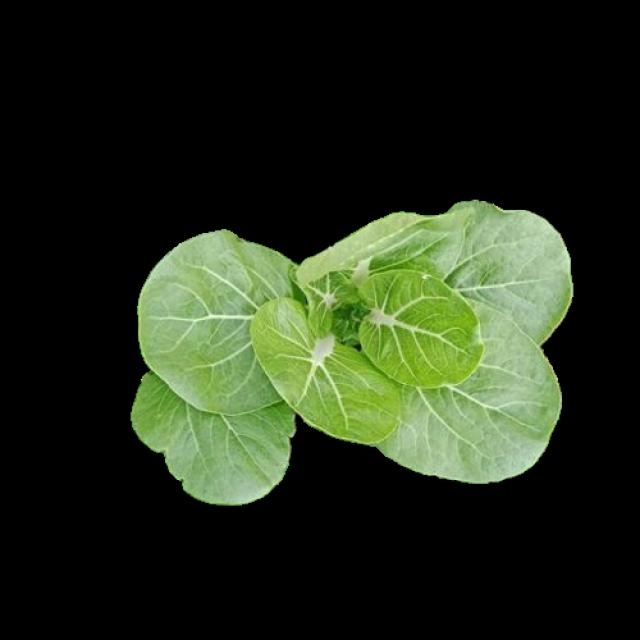healthy: (128, 202, 570, 497)
mature: (131, 205, 572, 499)
